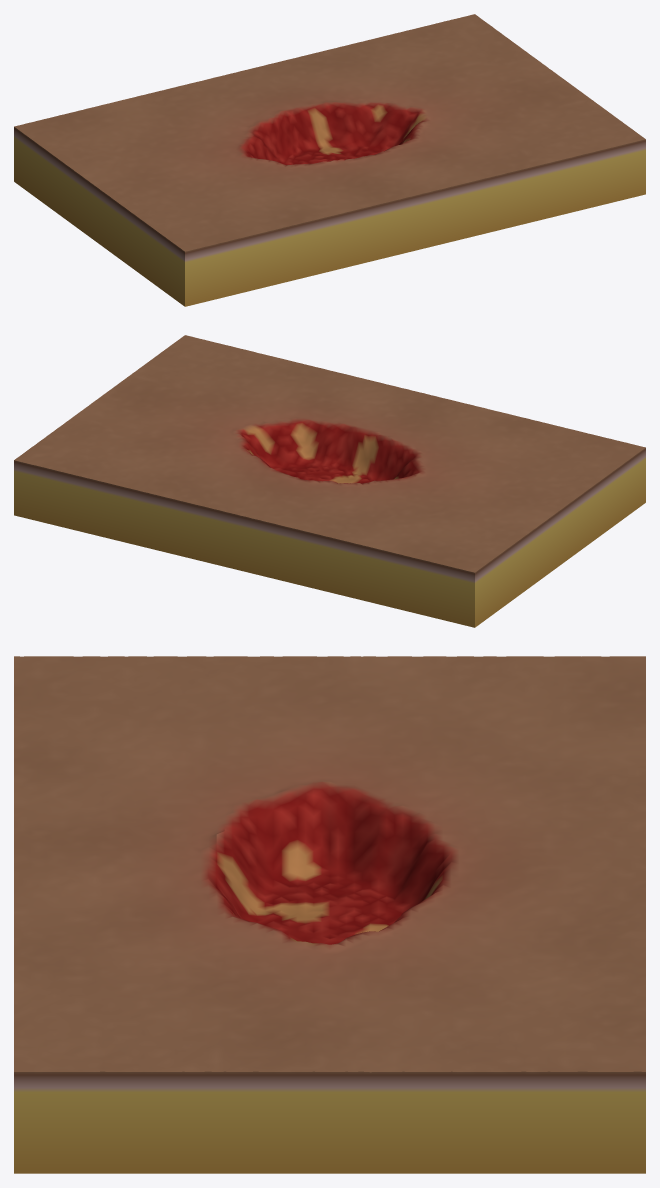
File: care_tpn.glb
The picture shows the model from 3 angles, top to bottom: view 1: azimuth 30°, elevation 25°; view 2: azimuth 150°, elevation 25°; view 3: azimuth 270°, elevation 25°; orthographic projection. The views are drawn at different scales.
Visible parts, largest first — view 1: care_tpn; view 2: care_tpn; view 3: care_tpn.
Part boxes in pixels (bbox=[...]): care_tpn: bbox=[14, 14, 645, 306]; care_tpn: bbox=[14, 335, 645, 627]; care_tpn: bbox=[14, 656, 645, 1173].
Size of the model in its own units: 14 by 1.65 by 9.
